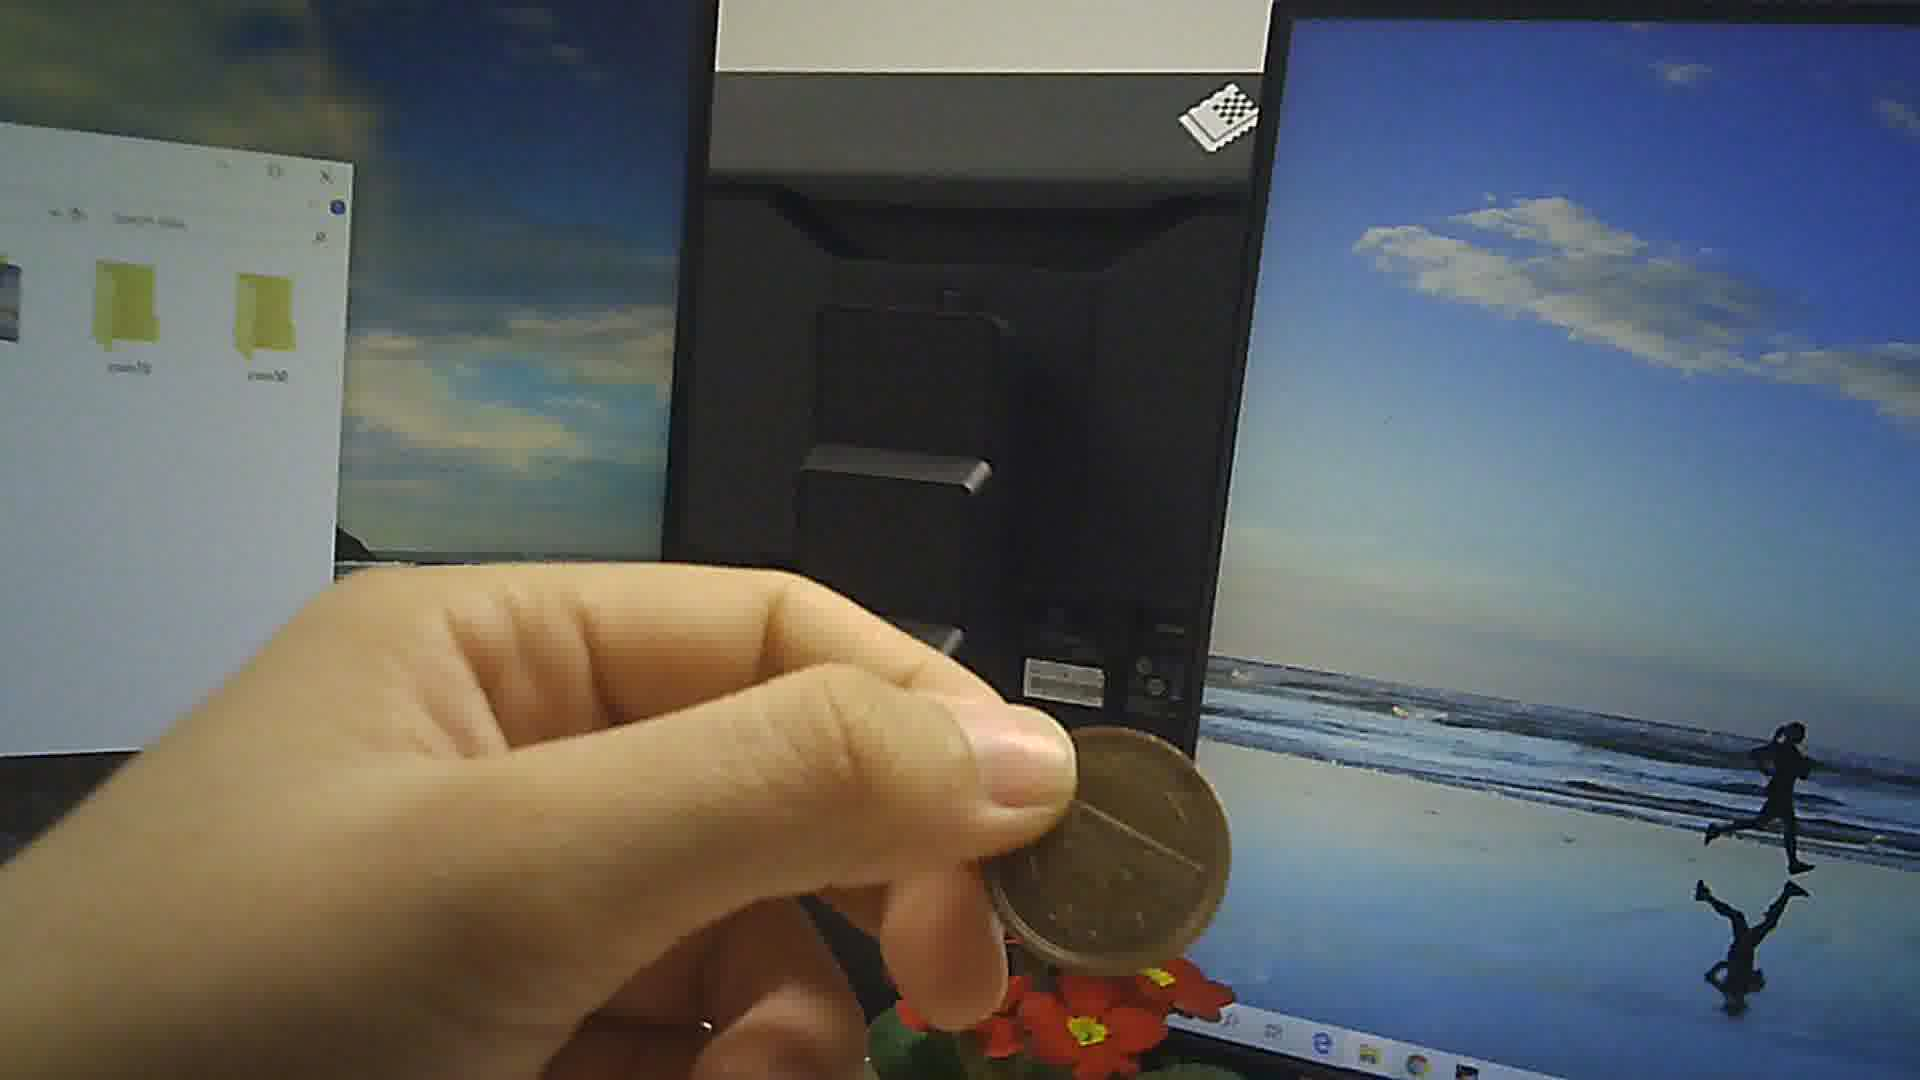10 Yen: (975, 721, 1228, 969)
